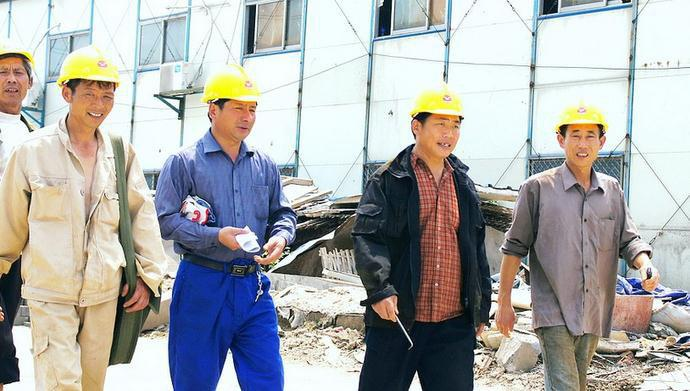helmet: (55, 41, 122, 129), (202, 58, 266, 145), (404, 80, 468, 159), (550, 96, 612, 170), (0, 39, 37, 111)
